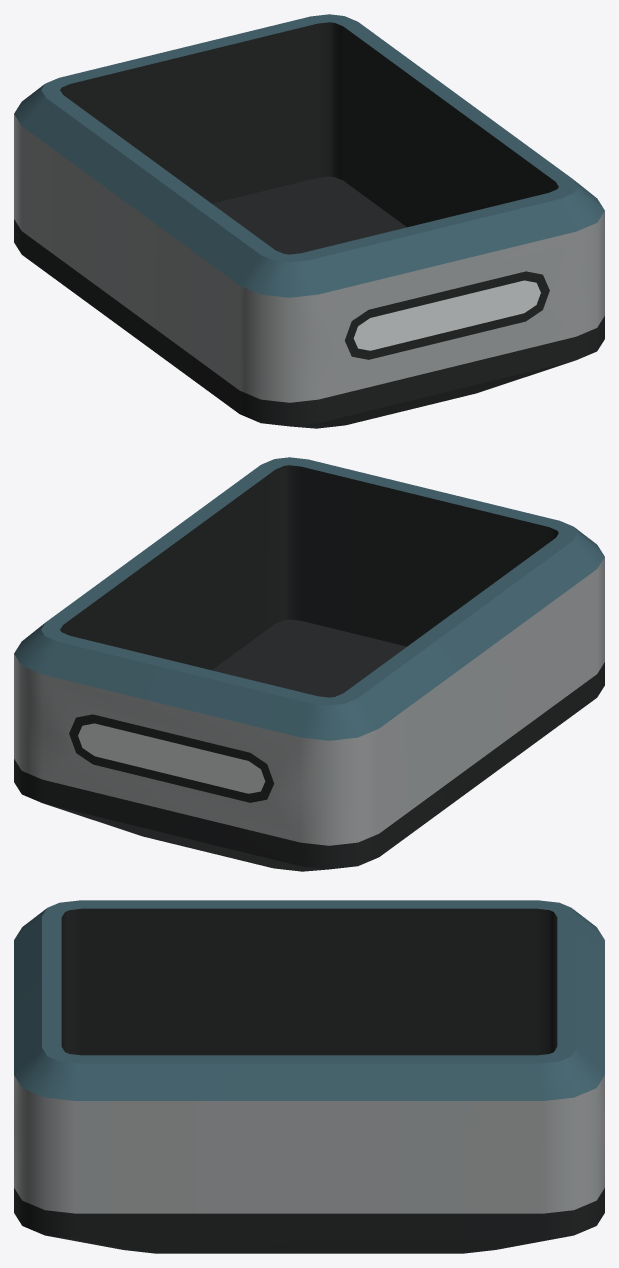
The model's file is Cargo_Drone_001_Box_001.fbx.
3 renders of one model, top to bottom at view 1: azimuth 30°, elevation 25°; view 2: azimuth 150°, elevation 25°; view 3: azimuth 270°, elevation 25°, orthographic. The views are drawn at different scales.
Visible parts, largest first — view 1: Cargo_Drone_001_Box_001; view 2: Cargo_Drone_001_Box_001; view 3: Cargo_Drone_001_Box_001.
Boxes of the visible parts, x1,y1,x2,y2 form: Cargo_Drone_001_Box_001: [14, 14, 604, 428]; Cargo_Drone_001_Box_001: [14, 457, 604, 871]; Cargo_Drone_001_Box_001: [14, 900, 604, 1253].
Size of the model in its own units: 55 by 73.48 by 28.95.
